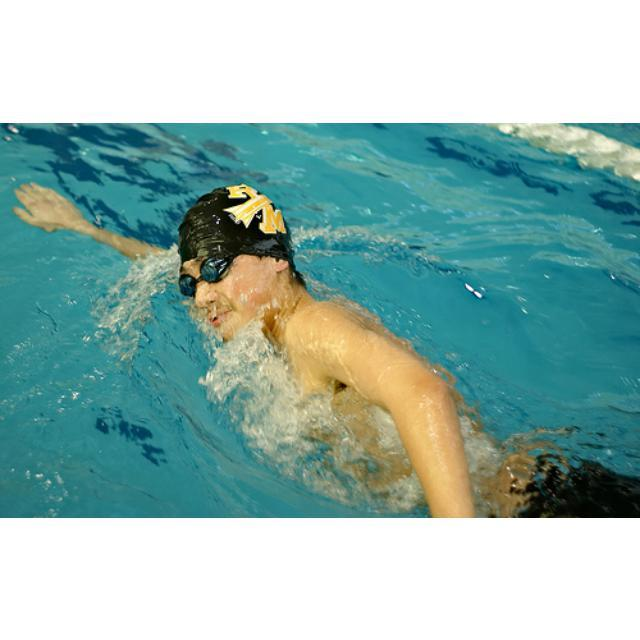human: (12, 176, 480, 517)
